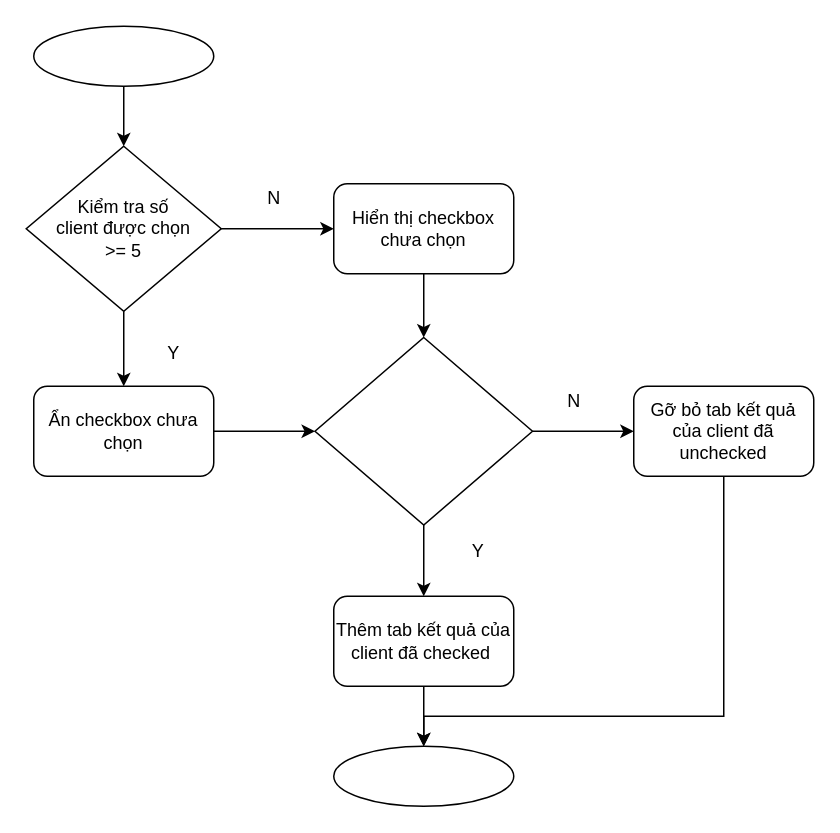
The diagram is 840 pixels wide and 833 high, and some of its shapes have lost their labels. The centre of each missing label's shape, as x and y in pixels:
Bắt đầu: (x=123, y=55)
Kiểm tra client hiện tại được checked không: (x=423, y=430)
Kết thúc: (x=423, y=775)
